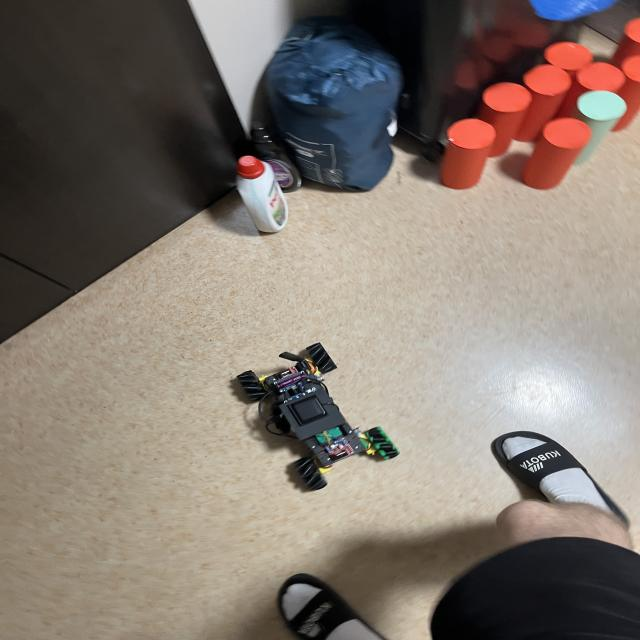robot: (237, 343, 399, 491)
